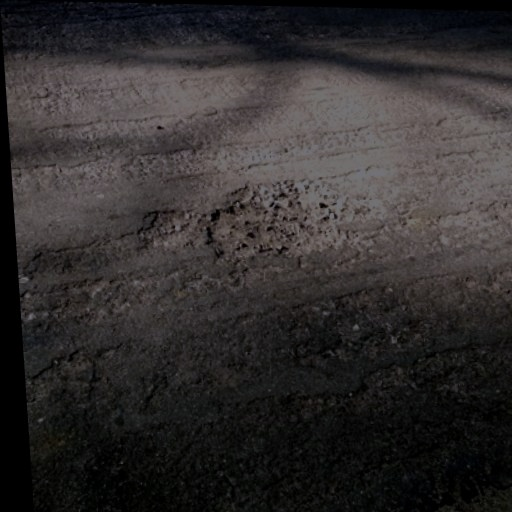pothole: (200, 181, 349, 260), (140, 206, 205, 253)
